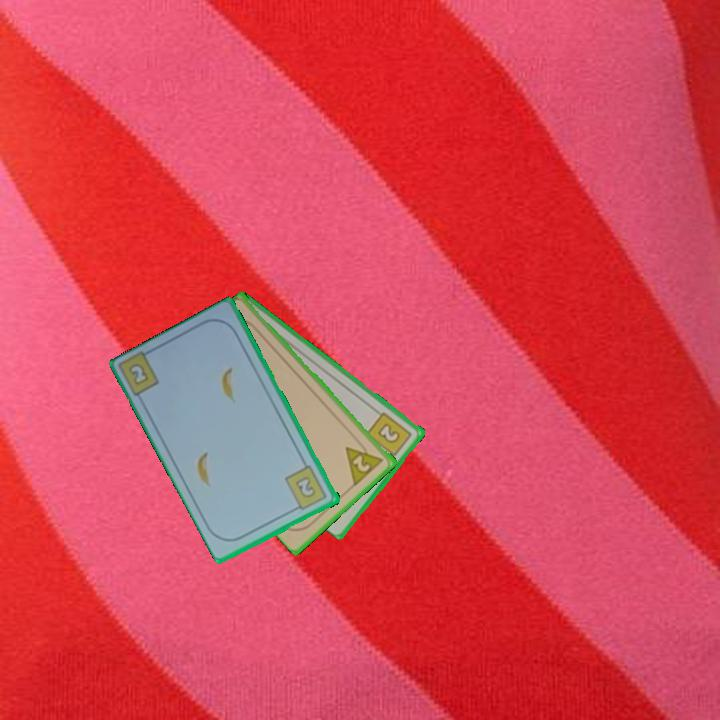2b: (363, 409, 415, 463), (282, 462, 330, 514), (125, 360, 152, 389)
2p: (342, 436, 388, 488)
